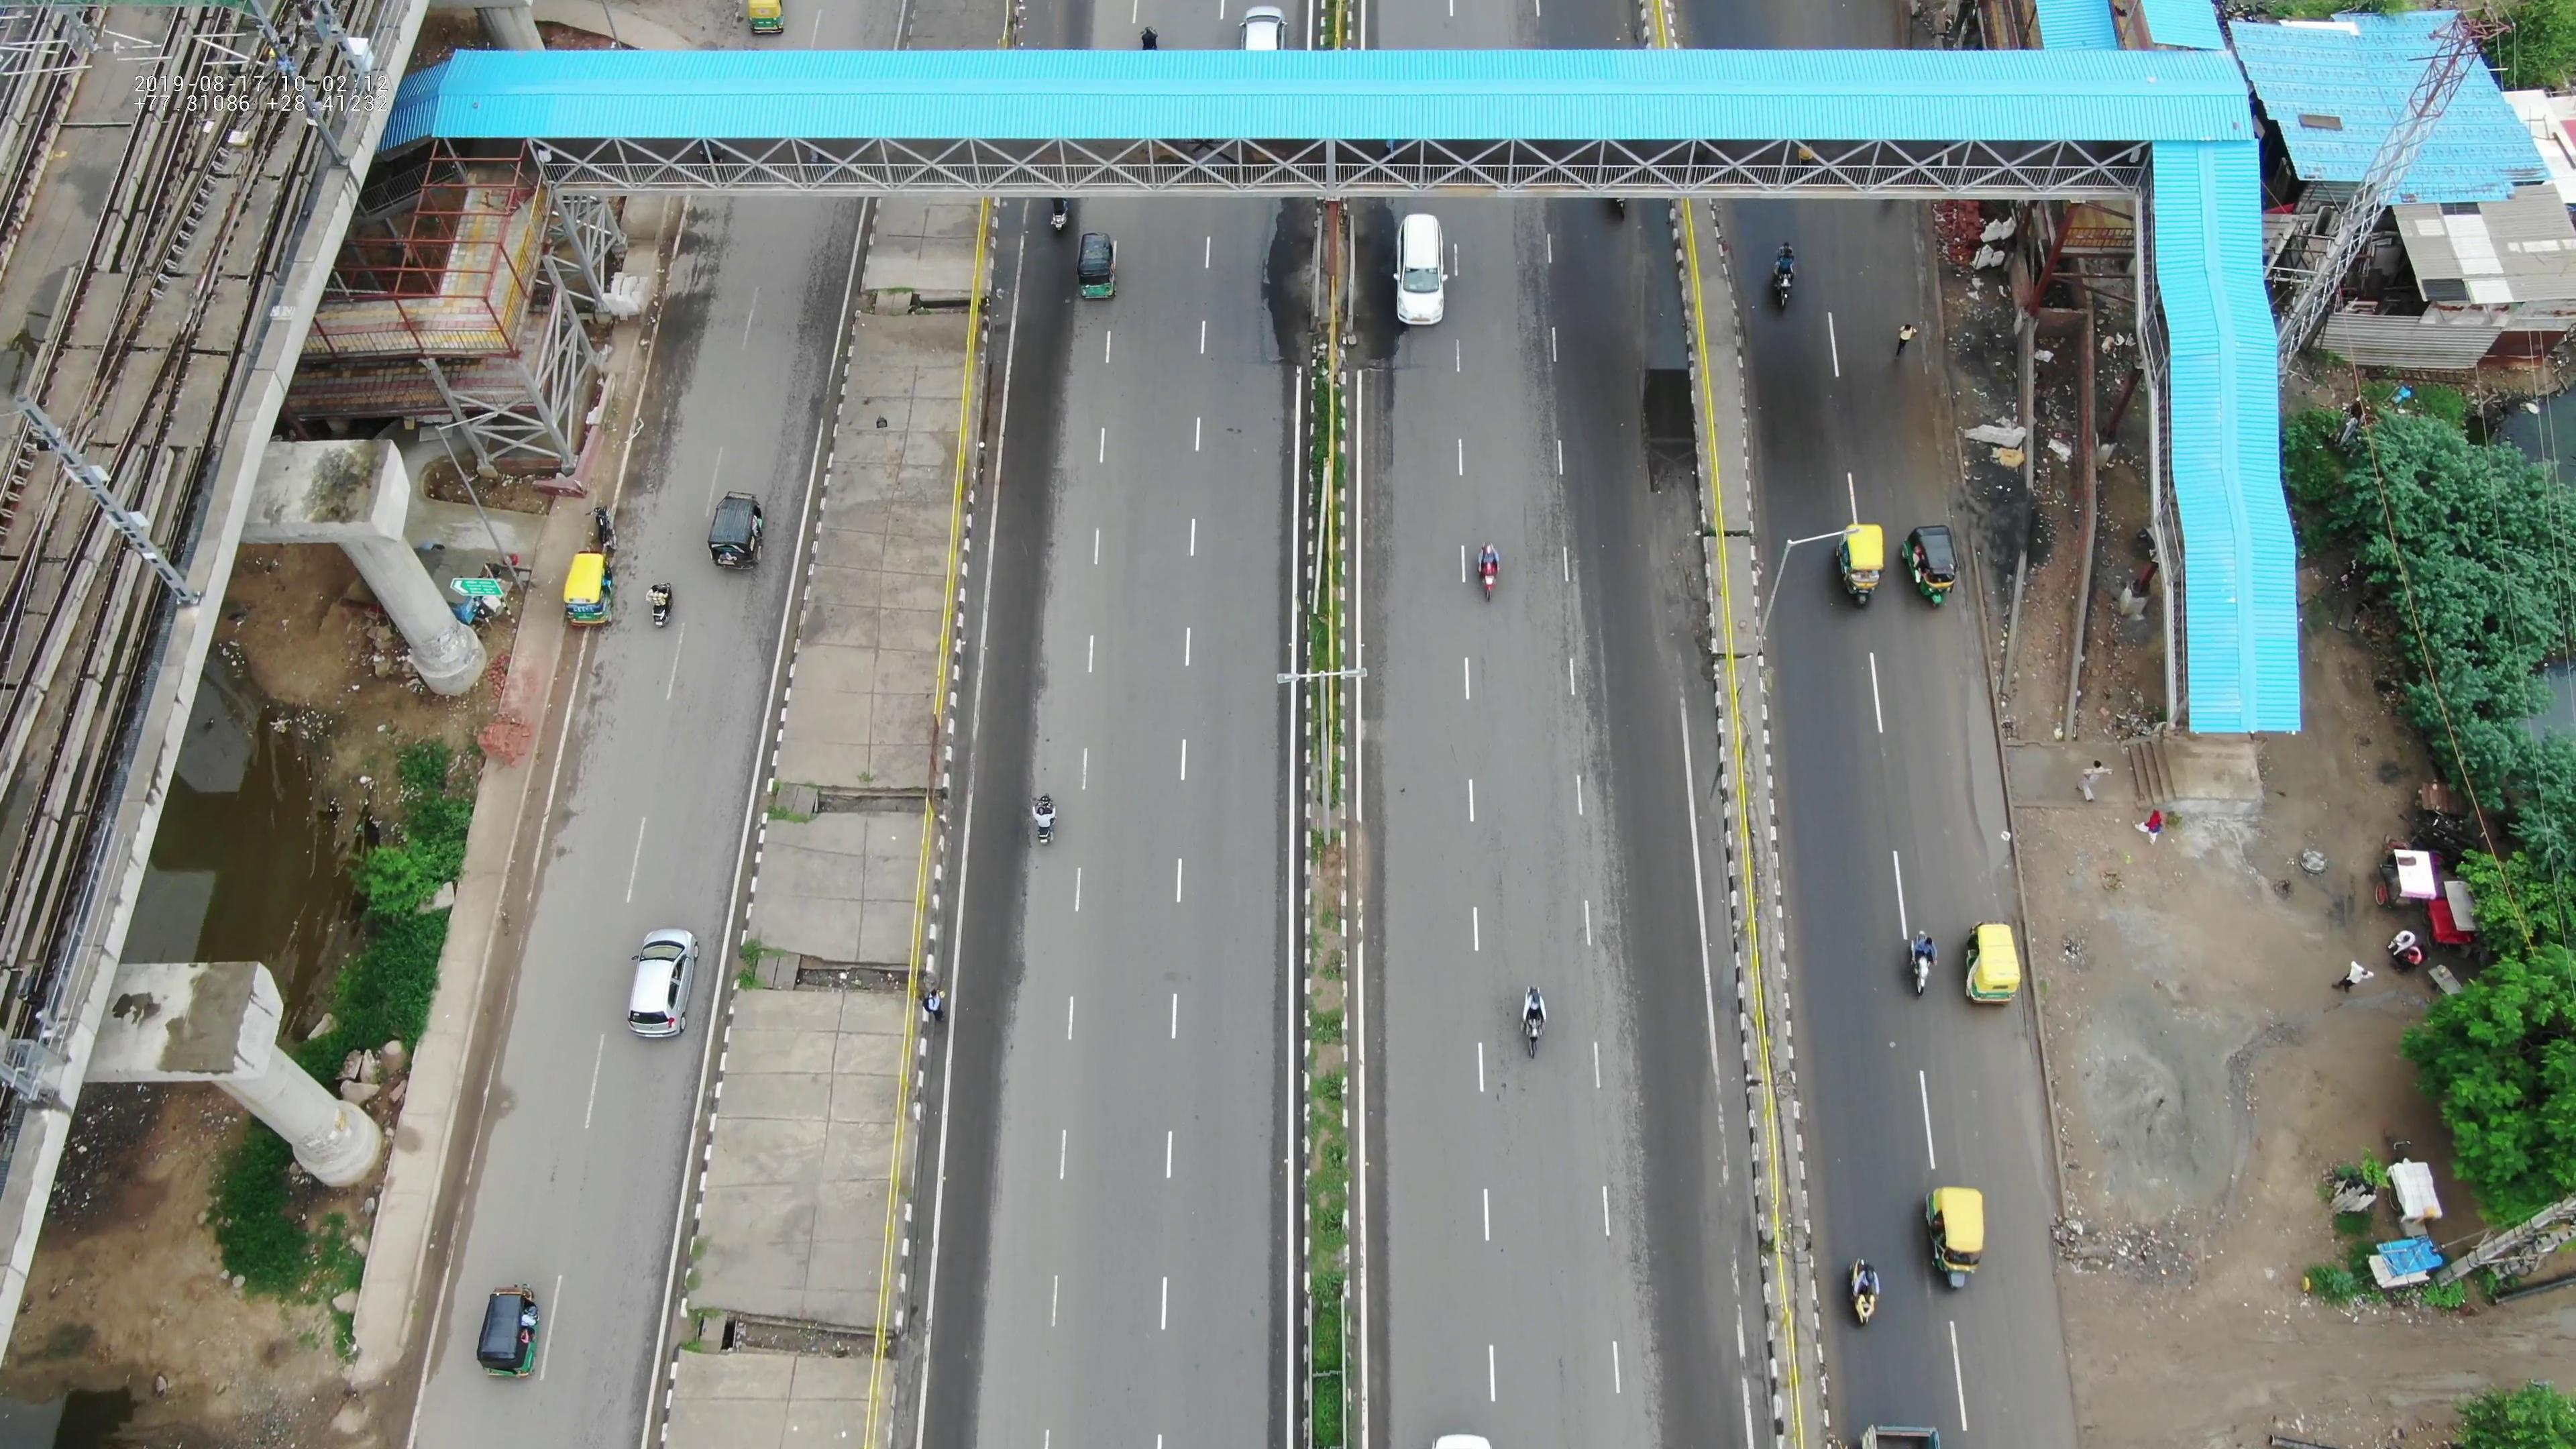Waterlogging: (1622, 234, 1718, 628), (1943, 663, 2028, 886)
